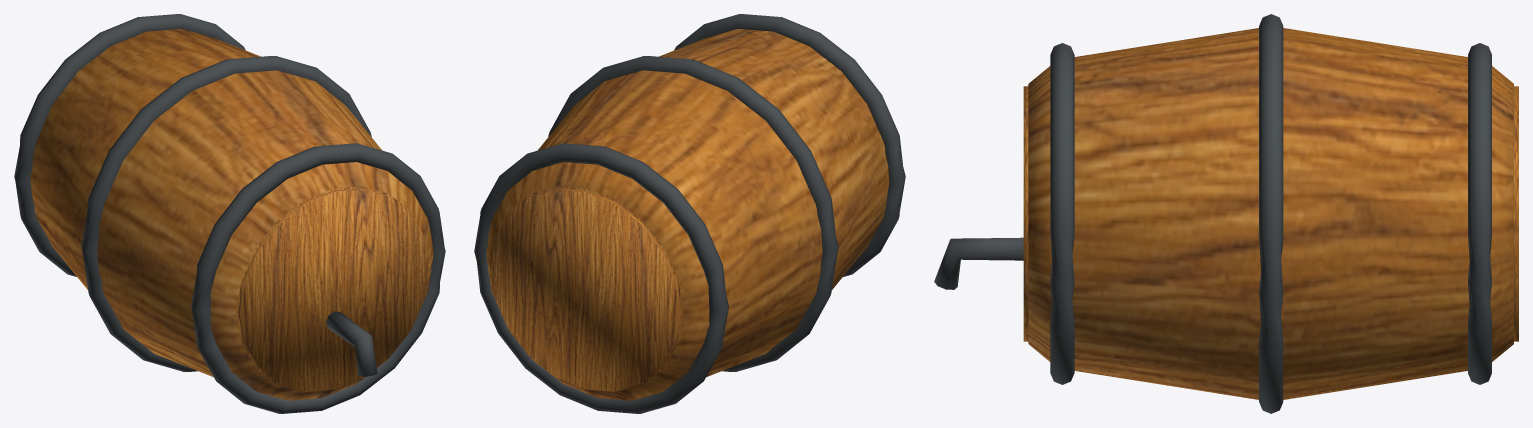
File: item_keg.glb
The picture shows the model from 3 angles, left to right: view 1: azimuth 30°, elevation 25°; view 2: azimuth 150°, elevation 25°; view 3: azimuth 270°, elevation 25°; orthographic projection. The views are drawn at different scales.
Visible parts, largest first — view 1: props_keg; view 2: props_keg; view 3: props_keg.
Boxes of the visible parts, left/top/right/bottom form: props_keg: left=14, top=14, right=445, bottom=413; props_keg: left=474, top=14, right=905, bottom=413; props_keg: left=934, top=14, right=1518, bottom=413.
Bounding box in the file's own units: 0.83 × 0.83 × 1.2.
2 materials, 1 textured.
